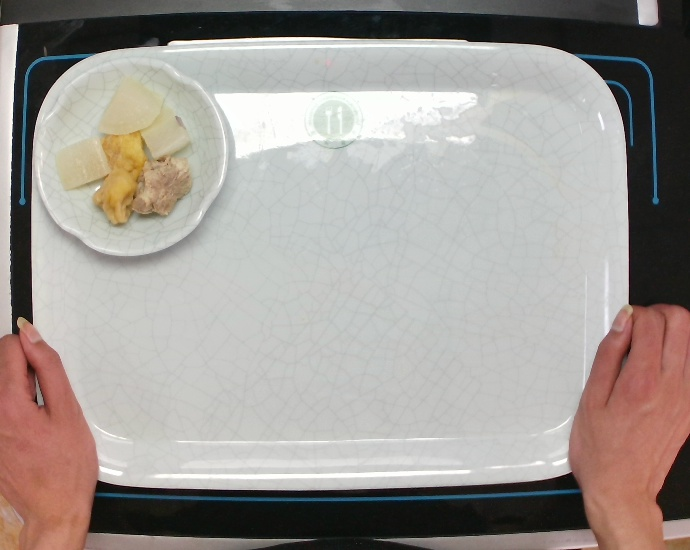JYsf-Ao_Yuan_Wan: (29, 55, 235, 261)
